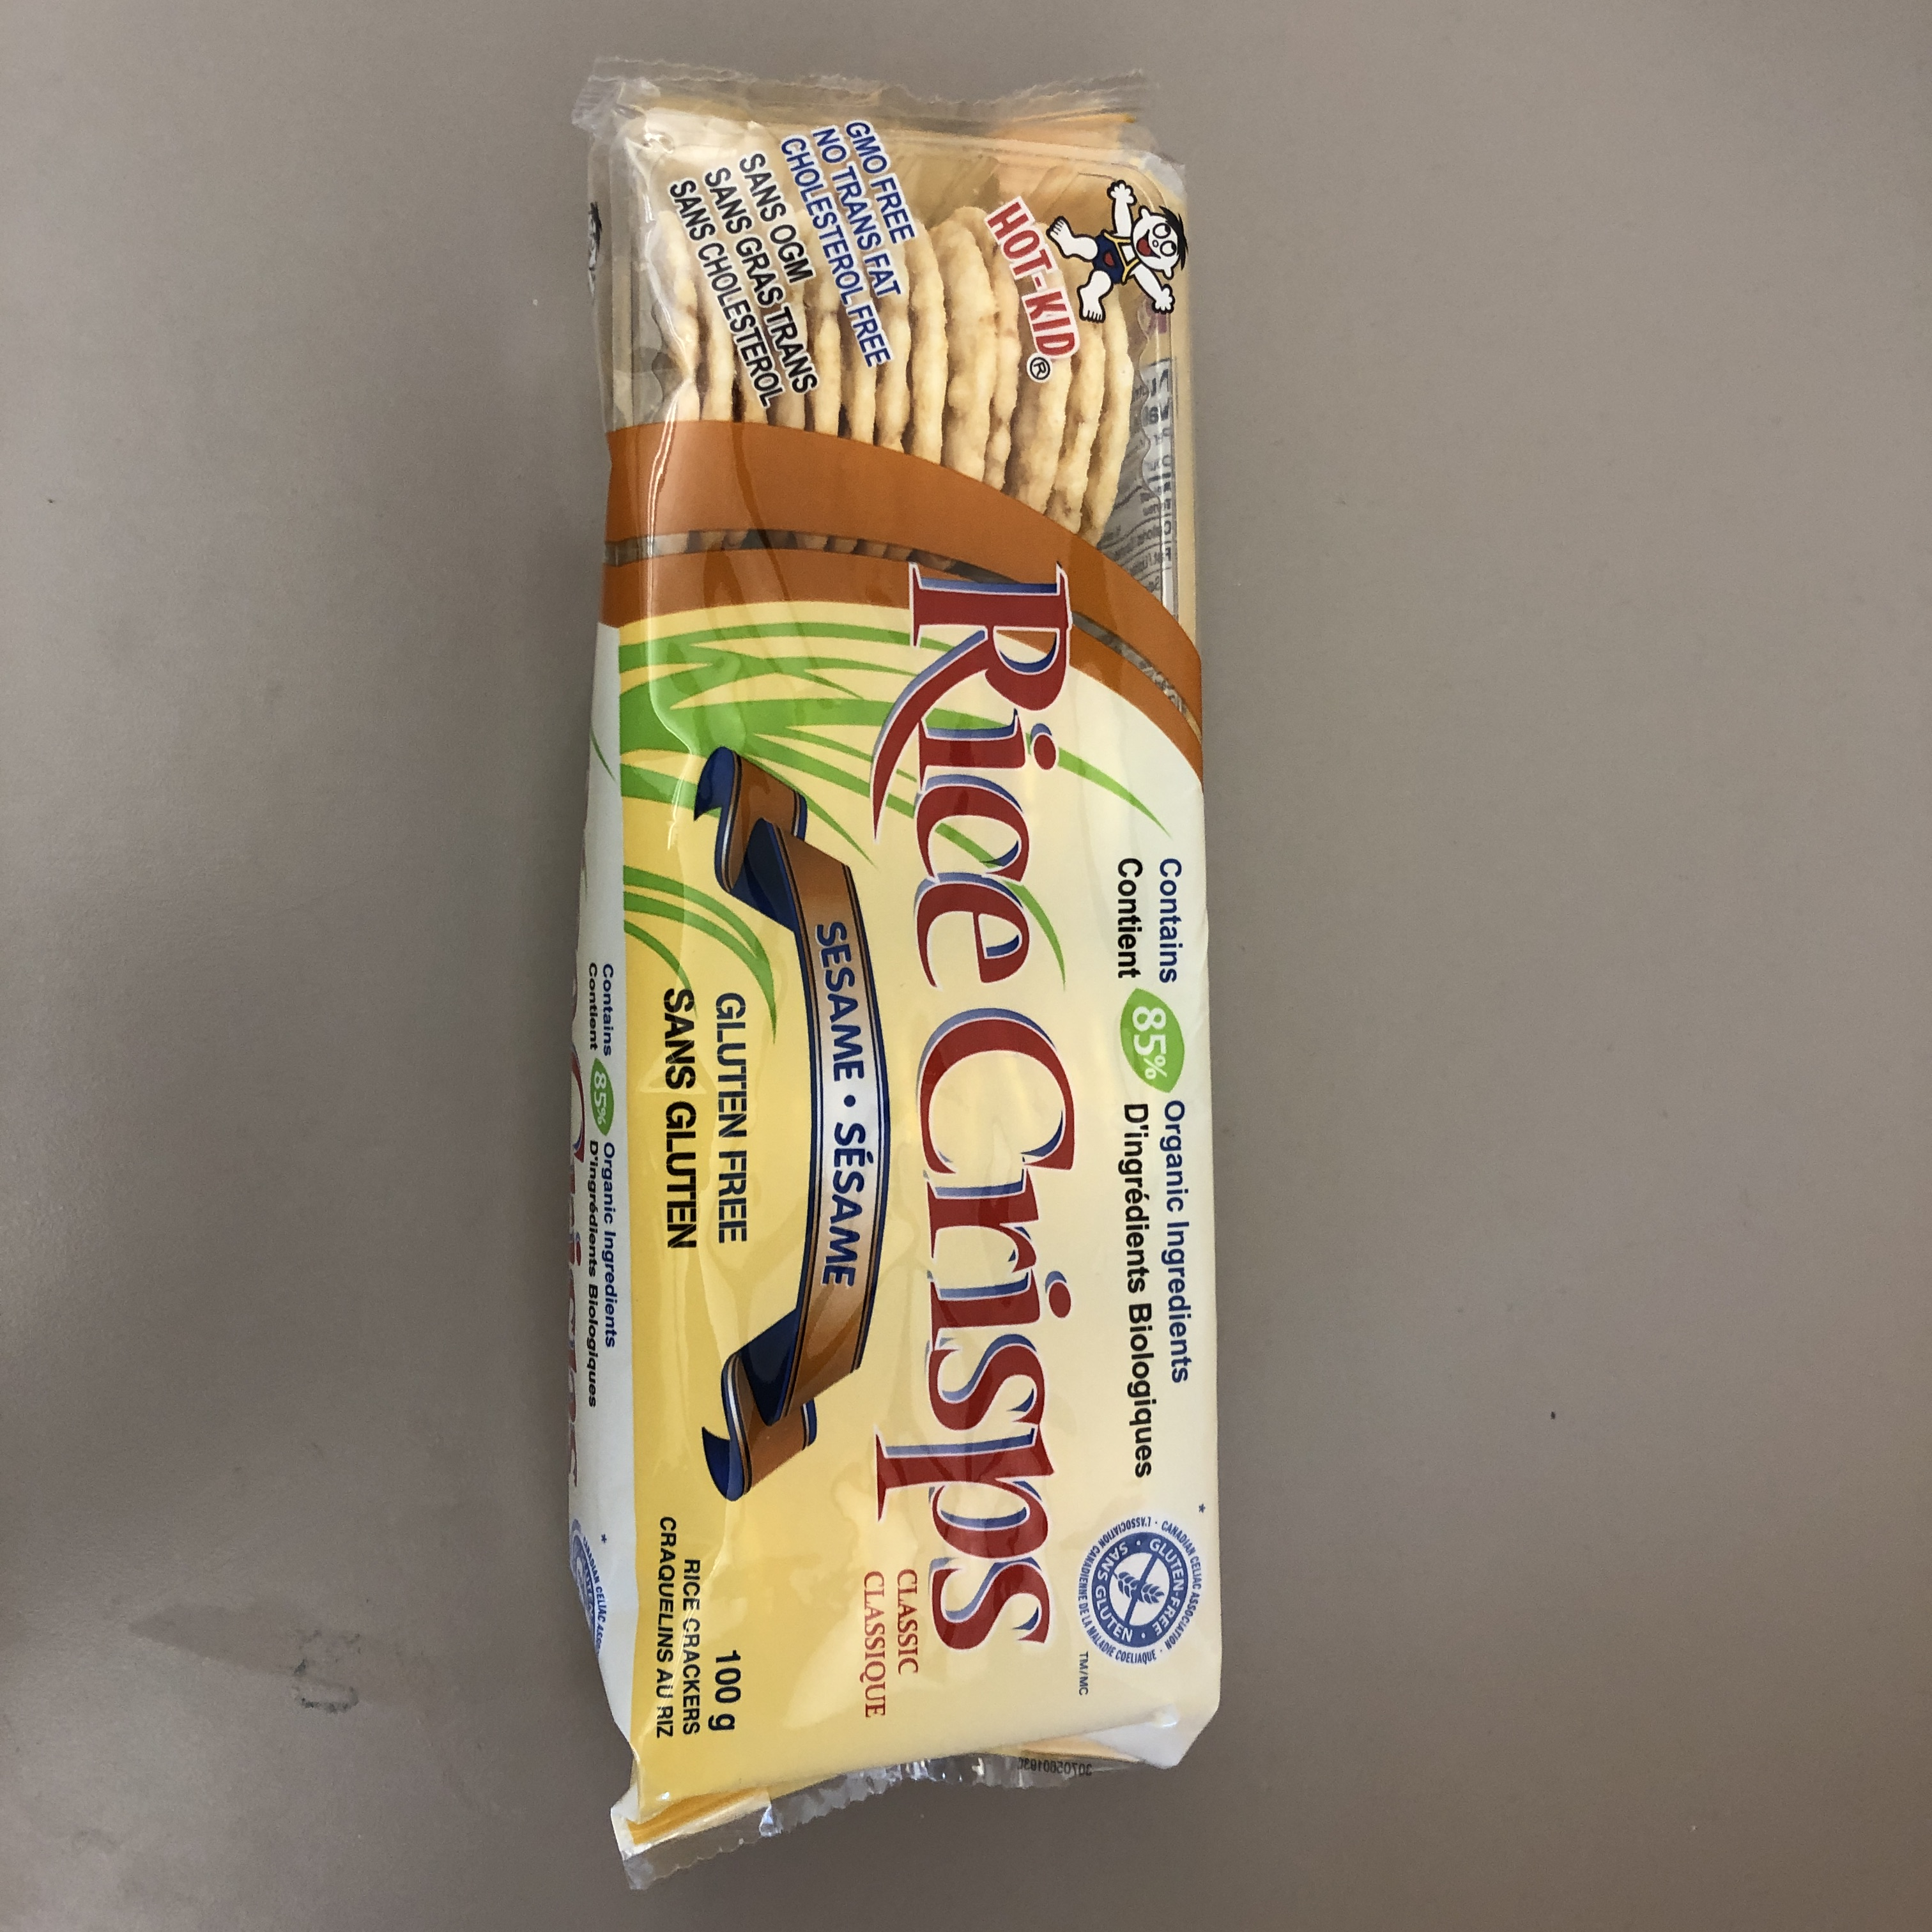hot_kid_rice_crisps_sesame: (153, 733, 1737, 1342)
